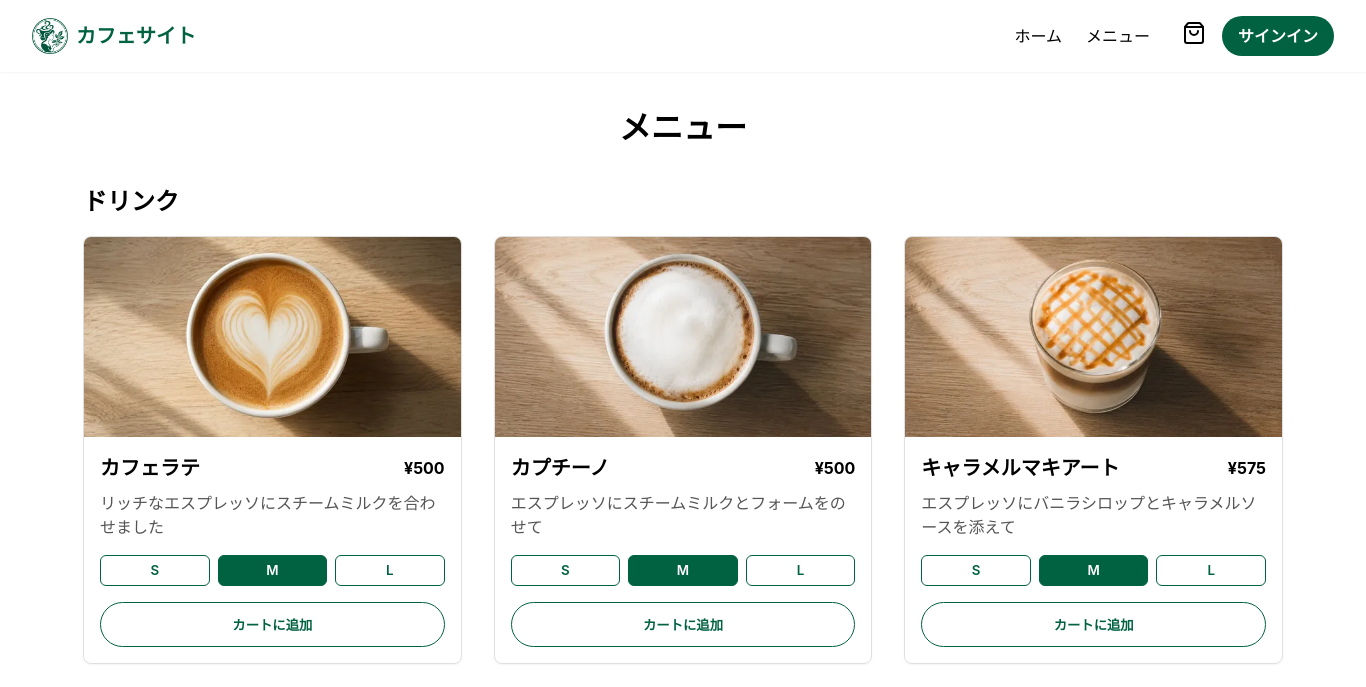
Scenario: カート › 商品を追加すると件数が増える
Step 1. Click the button "カートに追加" below "リッチなエスプレッソにスチームミルクを合わせました" → (272, 624), box [100,602,445,647]
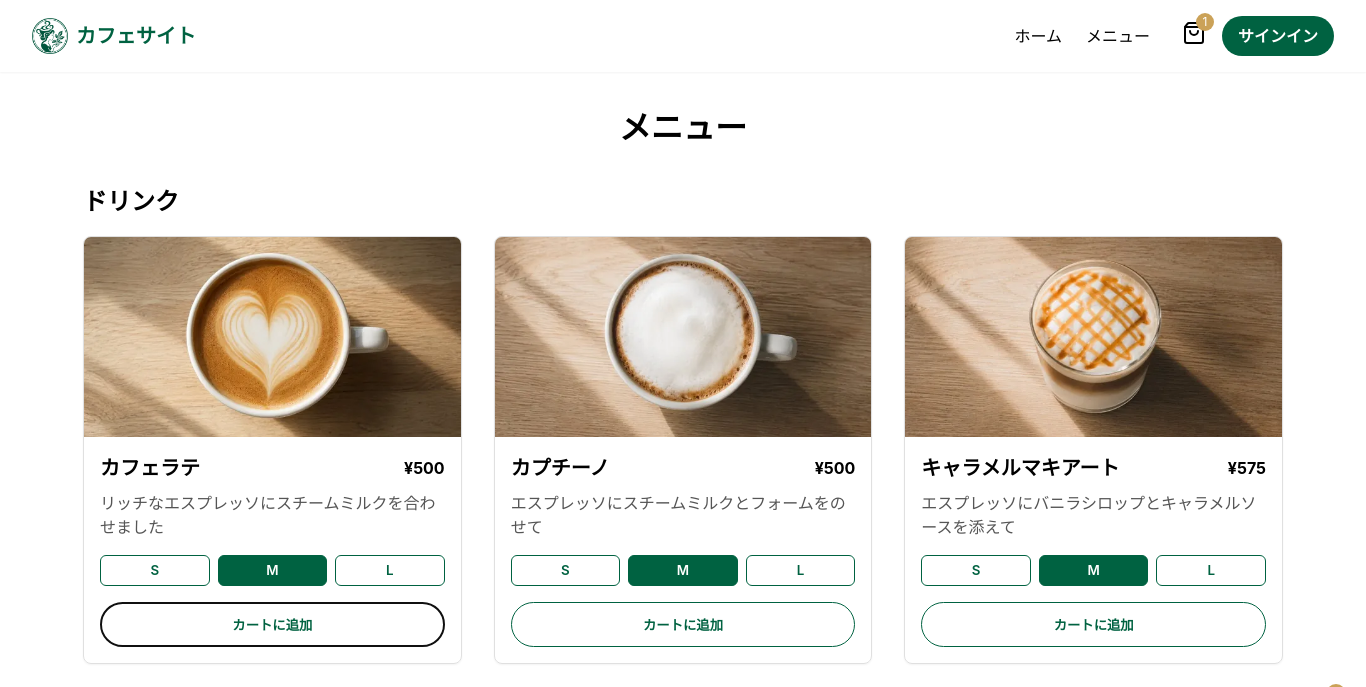
Step 2. Click the button "カートに追加" below "リッチなエスプレッソにスチームミルクを合わせました" → (272, 624), box [100,602,445,647]
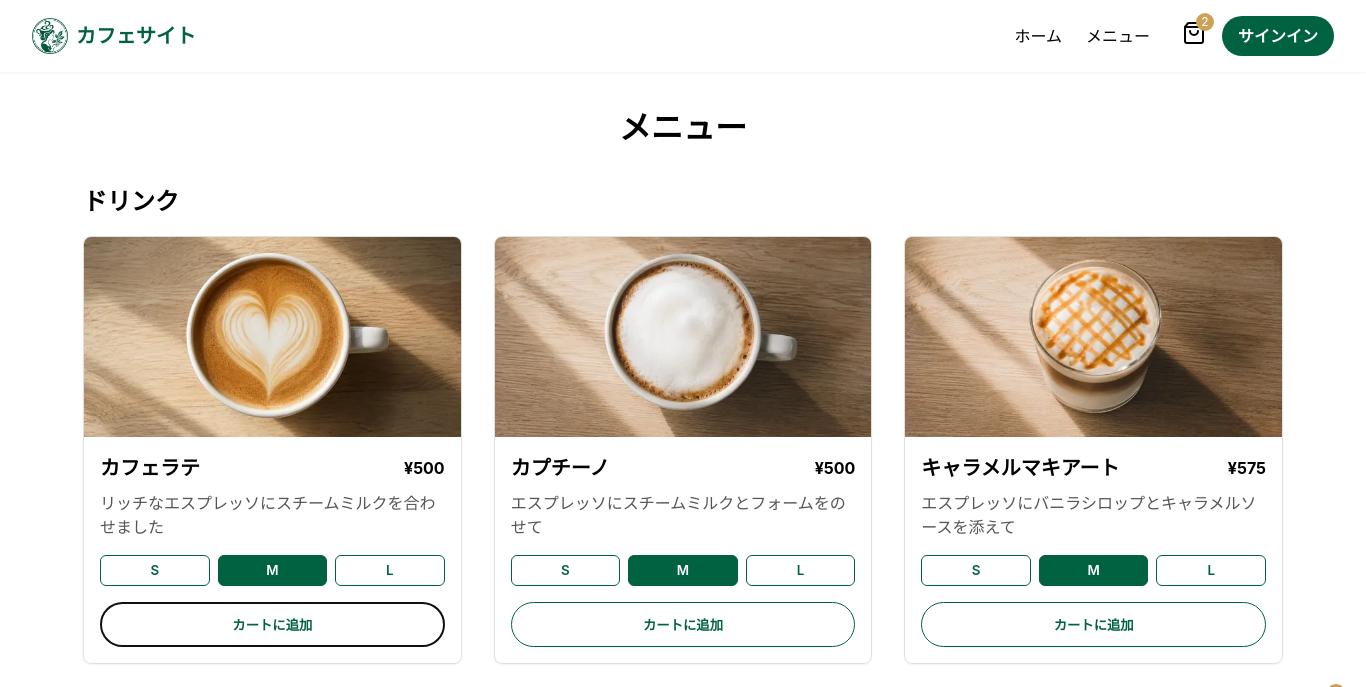
Check: the link named "カート（" reads "2", box [1182,21,1206,51]
